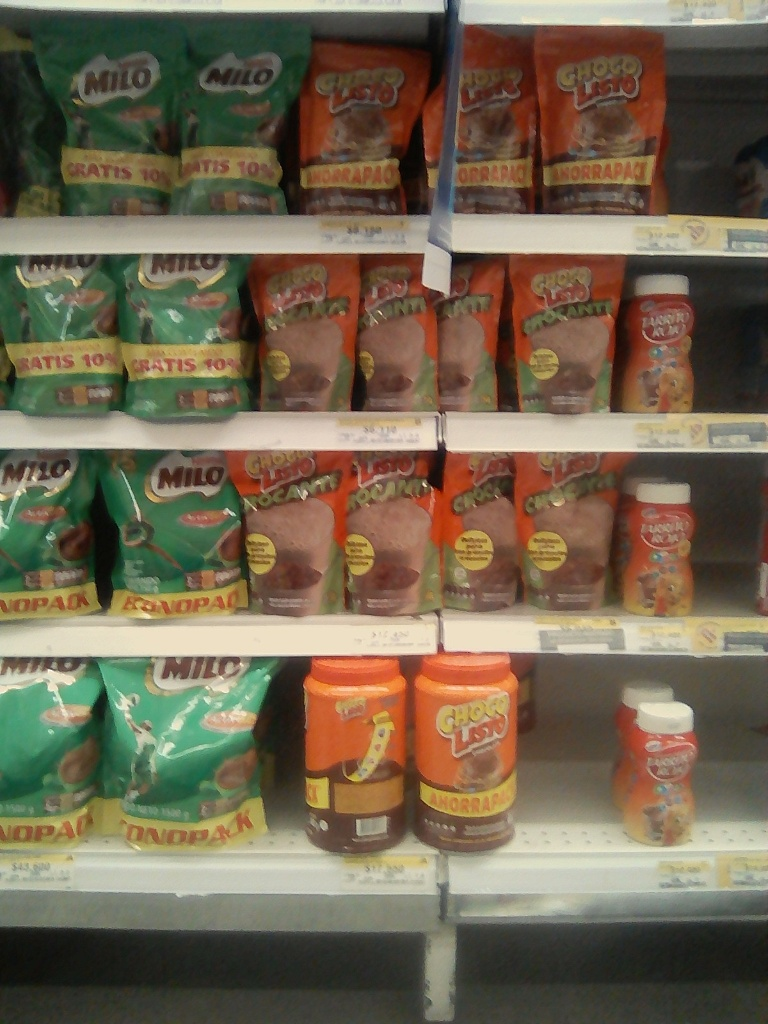COL0170102DYP25000: (502, 252, 621, 415)
COL0170102DYP50000: (228, 453, 357, 619)
COL0170103DYP40000: (535, 26, 670, 218)
COL0170103TRR00100: (412, 652, 522, 853)
